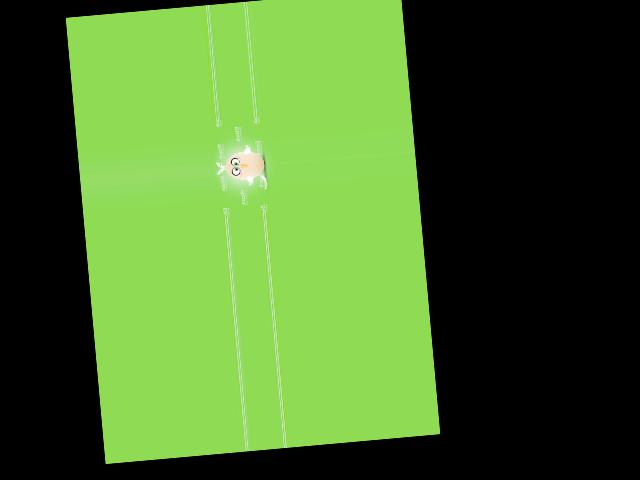egg: (224, 150, 266, 181)
